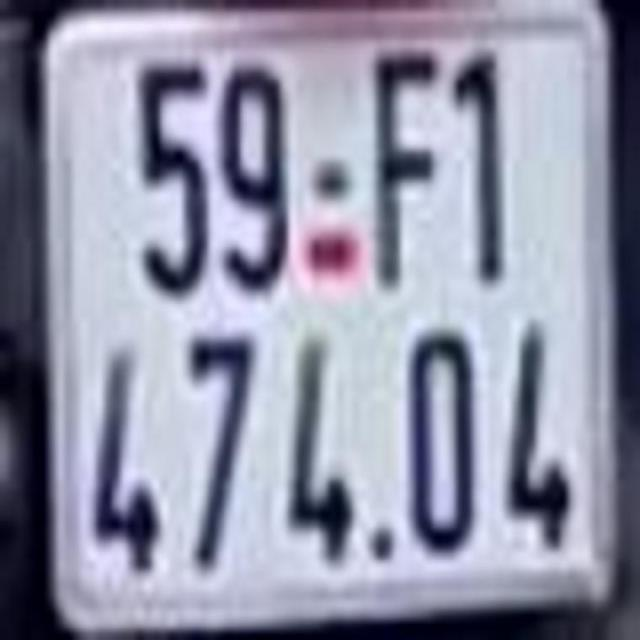0: (404, 326, 487, 548)
1: (452, 47, 520, 291)
4: (83, 331, 170, 576), (287, 336, 362, 559), (508, 330, 583, 549)
5: (136, 59, 212, 303)
7: (180, 331, 255, 567)
9: (218, 60, 292, 294)
F: (369, 48, 450, 288)
